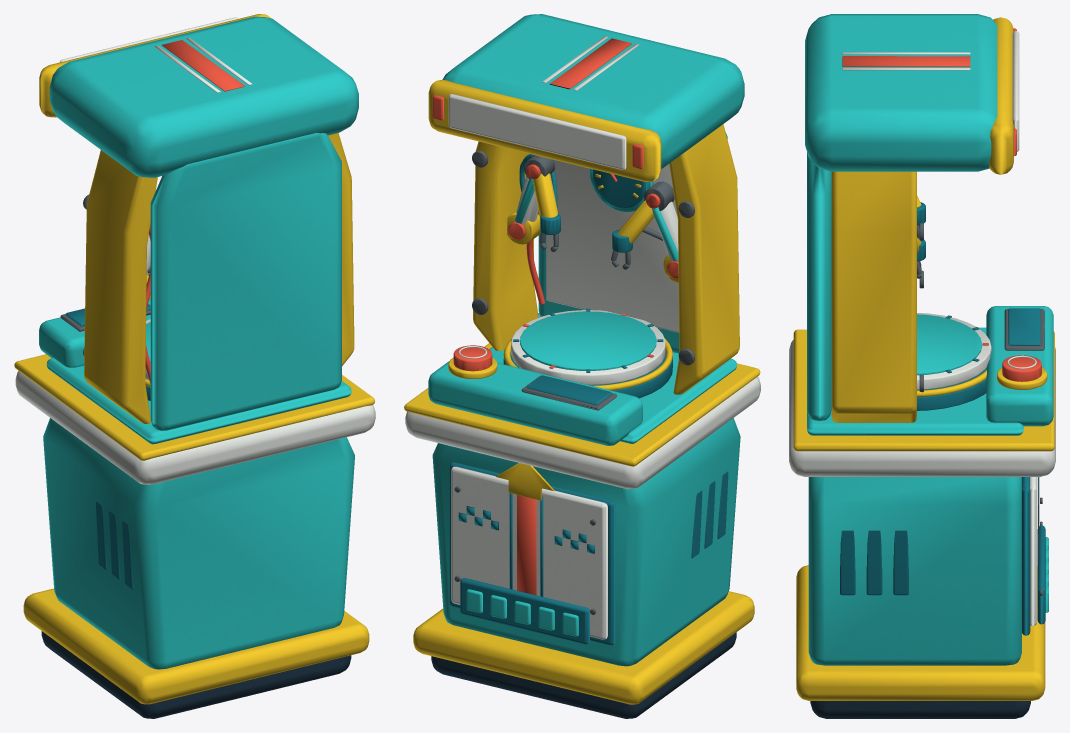
The model's file is ToyRacingFactory.fbx.
3 renders of one model, left to right at view 1: azimuth 30°, elevation 25°; view 2: azimuth 150°, elevation 25°; view 3: azimuth 270°, elevation 25°, orthographic. The views are drawn at different scales.
Visible parts, largest first — view 1: Housing; view 2: Housing, Turntable, RightArm, LeftArm, Button; view 3: Housing, Turntable, Button.
Part boxes in pixels (x1,y1,x2,y2): Housing: (14,14,375,718); Housing: (404,14,760,718); Turntable: (511,308,665,385); RightArm: (507,154,560,252); LeftArm: (611,181,678,282); Button: (453,345,492,371); Housing: (789,14,1055,718); Turntable: (917,313,991,389); Button: (1002,355,1041,381).
Bounding box in the file's own units: 79 × 189 × 75.
